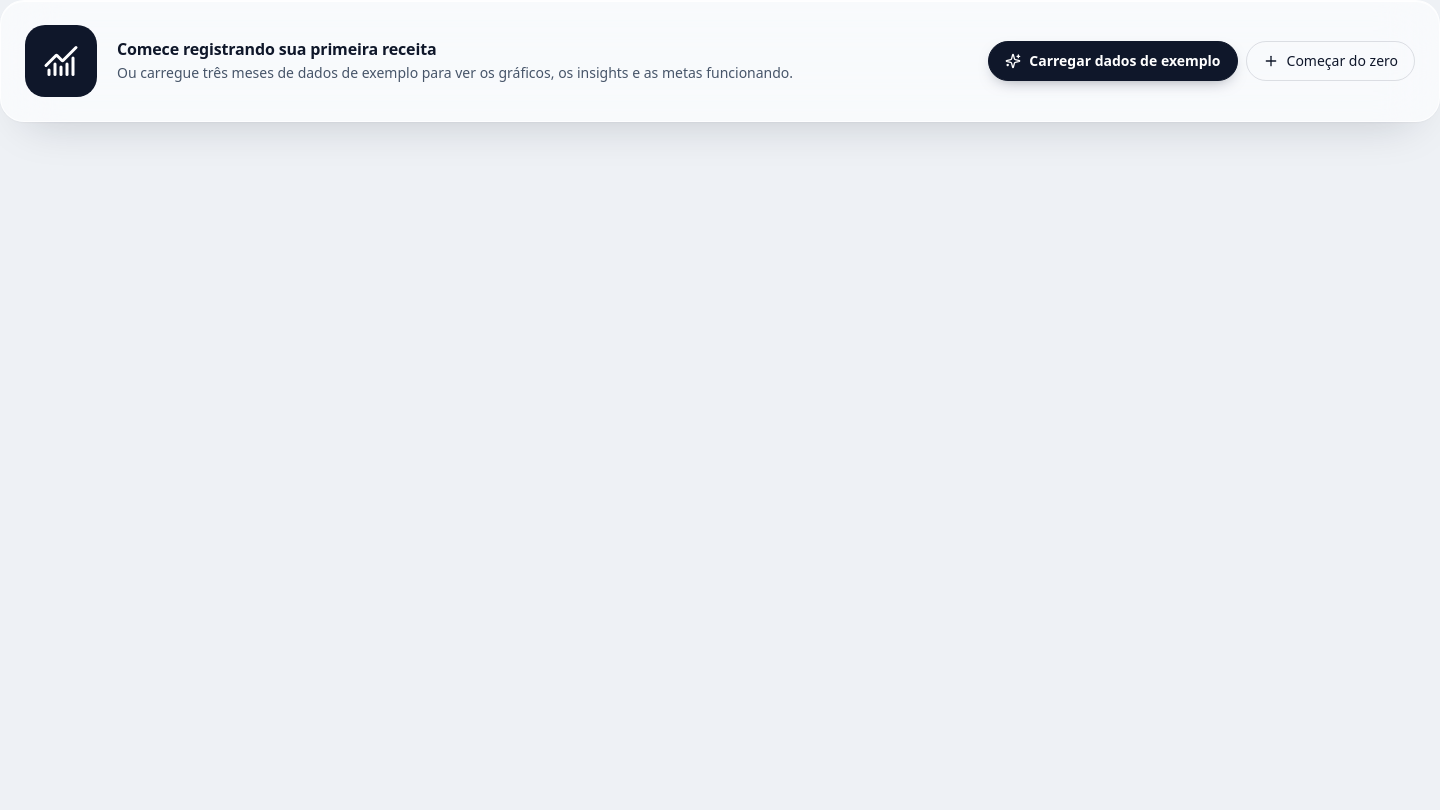
Test case: carregar dados de exemplo chama a API, avisa e recarrega
Click the button "Carregar dados de exemplo": [1113, 61] box [988,41,1238,81]
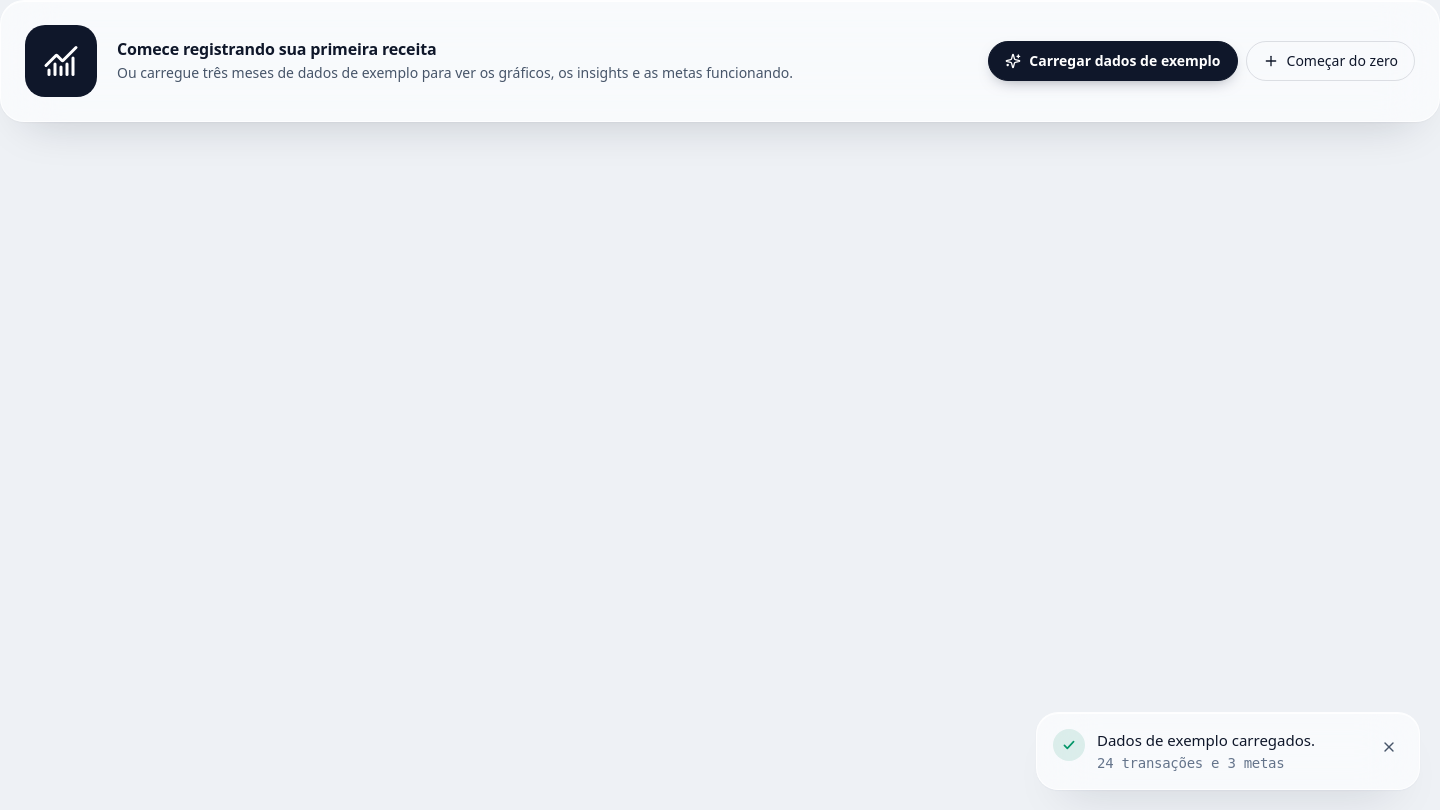
Expected: the text "Dados de exemplo carregados." is shown, [1097,730,1315,750]
